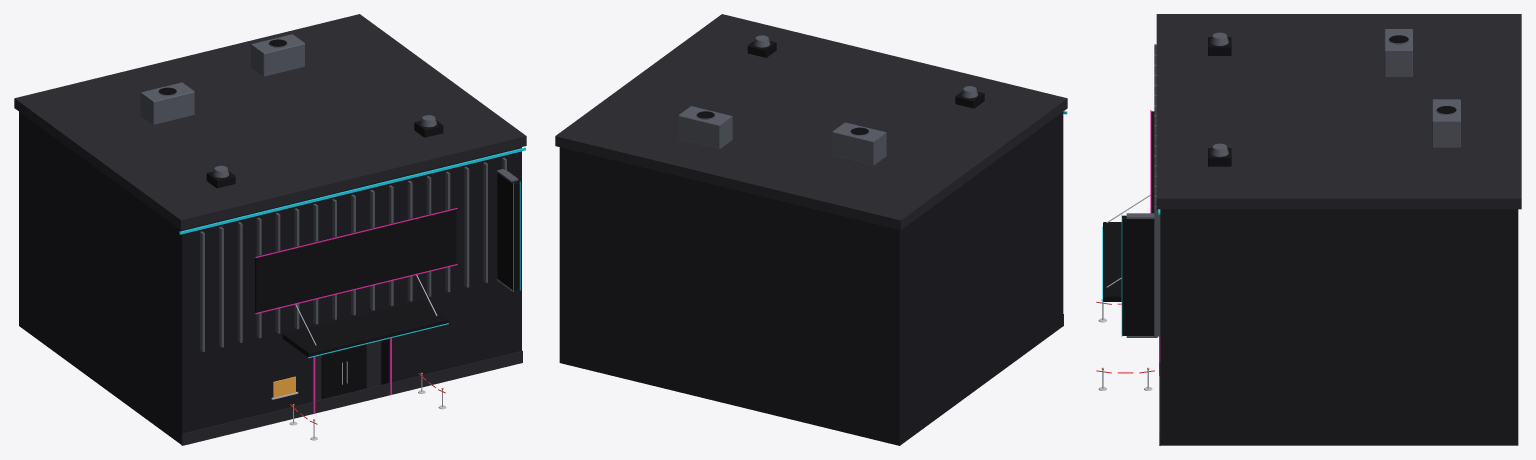
File: town-club.glb
3 views of the same model, side by side, from view 1: azimuth 30°, elevation 25°; view 2: azimuth 150°, elevation 25°; view 3: azimuth 270°, elevation 25° (orthographic). The views are drawn at different scales.
Parts seen in each view (by area): view 1: concreteDark0, concrete1, black40, concrete2, black30, black44, steel51, steel55, glowCyan43, door25, concrete23, door24 (+5 smaller); view 2: concreteDark0, concrete1, steel51, steel55; view 3: concreteDark0, concrete1, black44, black30, steel55, steel51, steel19.
Part boxes in pixels (x1,y1,x2,y2): concreteDark0: (19, 112, 521, 444); concrete1: (14, 14, 526, 229); black40: (255, 208, 456, 312); concrete2: (181, 350, 522, 445); black30: (282, 300, 447, 357); black44: (497, 172, 519, 290); steel51: (140, 82, 194, 125); steel55: (251, 34, 304, 76); glowCyan43: (179, 147, 525, 234); door25: (344, 344, 366, 393); concrete23: (315, 341, 380, 400); door24: (321, 350, 343, 399); concreteDark0: (559, 112, 1063, 445); concrete1: (555, 14, 1067, 230); steel51: (832, 122, 886, 165); steel55: (678, 106, 732, 148); concreteDark0: (1160, 209, 1518, 445); concrete1: (1156, 14, 1521, 209); black44: (1122, 215, 1154, 335); black30: (1103, 222, 1121, 301); steel55: (1432, 99, 1460, 147); steel51: (1384, 29, 1412, 76); steel19: (1154, 206, 1160, 336).
Size of the model in its own units: 18.32 by 12.74 by 17.83.
